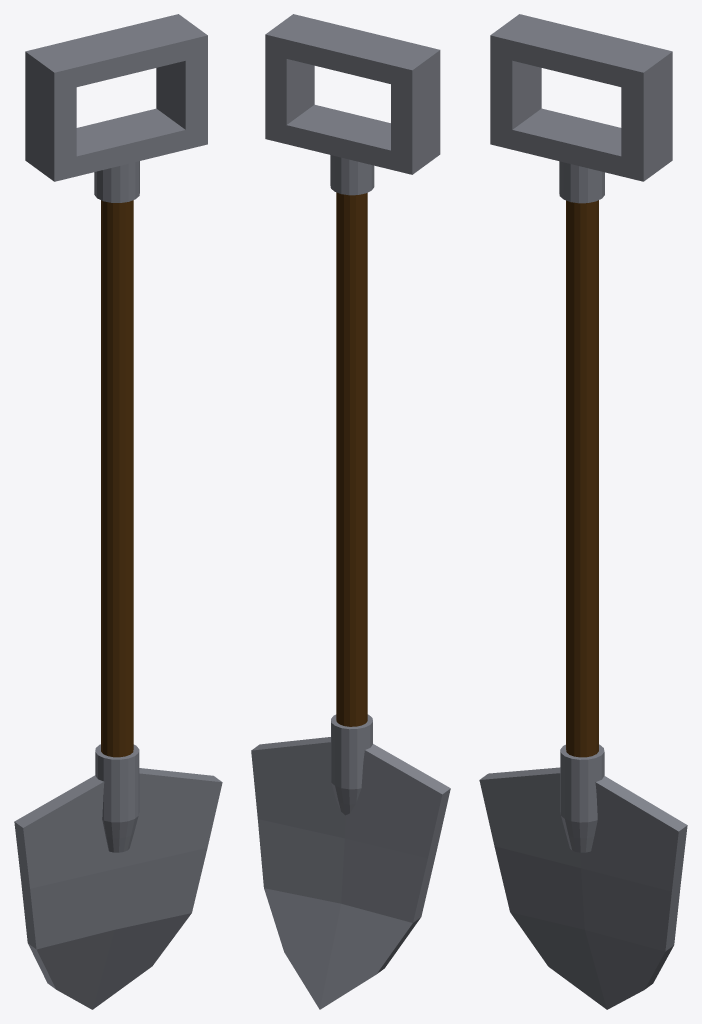
The model's file is Pala.fbx.
3 renders of one model, left to right at view 1: azimuth 30°, elevation 25°; view 2: azimuth 150°, elevation 25°; view 3: azimuth 330°, elevation 25°, orthographic. The views are drawn at different scales.
Visible parts, largest first — view 1: Pala, Agarre, Palo; view 2: Pala, Agarre, Palo; view 3: Pala, Agarre, Palo.
Part boxes in pixels (x1,y1,x2,y2): Pala: [14, 768, 222, 1009]; Agarre: [25, 14, 207, 202]; Palo: [95, 200, 139, 852]; Pala: [251, 737, 450, 1009]; Agarre: [265, 14, 440, 195]; Palo: [331, 192, 372, 815]; Pala: [479, 767, 687, 1009]; Agarre: [490, 14, 672, 203]; Palo: [560, 200, 604, 852].
Bounding box in the file's own units: 21.17 × 99.87 × 8.87.
